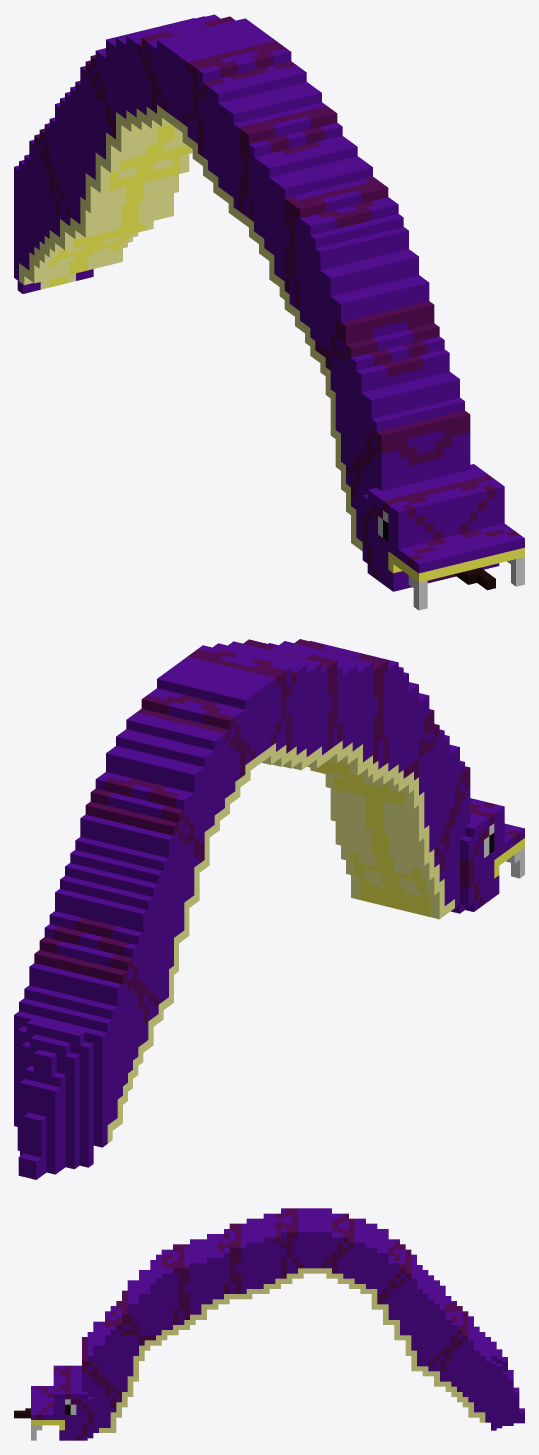
Rendered from psnake.obj.
3 renders of one model, top to bottom at view 1: azimuth 30°, elevation 25°; view 2: azimuth 150°, elevation 25°; view 3: azimuth 270°, elevation 25°, orthographic. The views are drawn at different scales.
Visible parts, largest first — view 1: obj1; view 2: obj1; view 3: obj1.
Boxes of the visible parts, x1,y1,x2,y2 form: obj1: (14, 14, 524, 610); obj1: (14, 639, 524, 1179); obj1: (14, 1208, 524, 1440).
Size of the model in its own units: 0.018 by 0.06 by 0.135.
